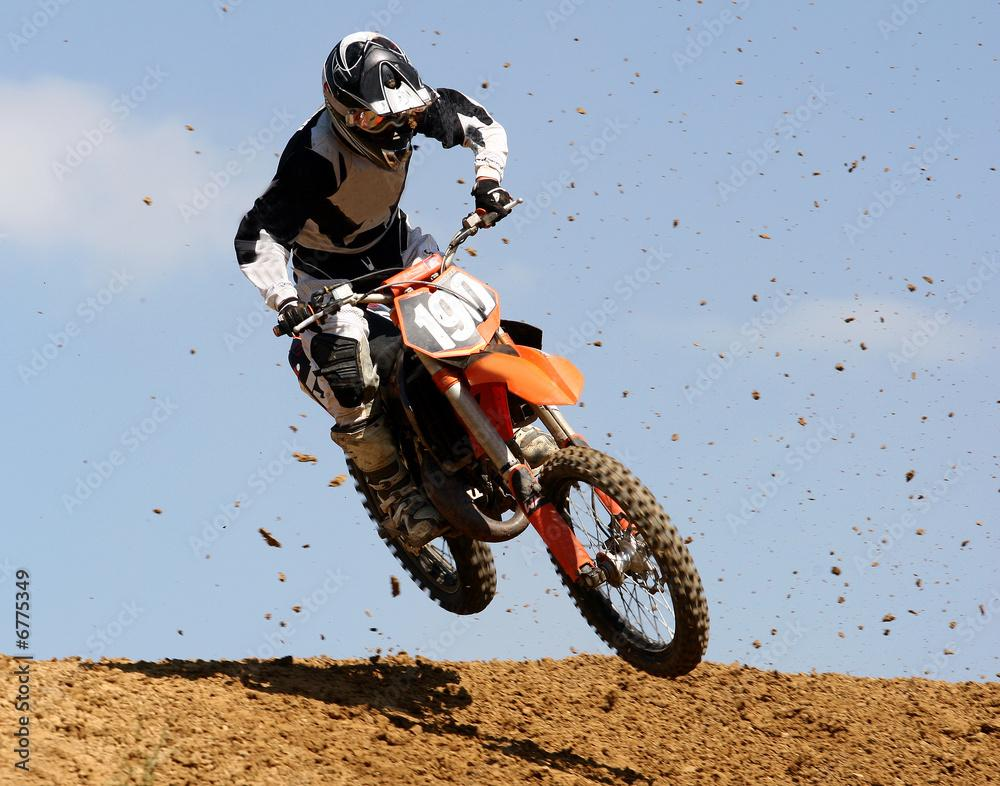helmet: (321, 30, 442, 173)
